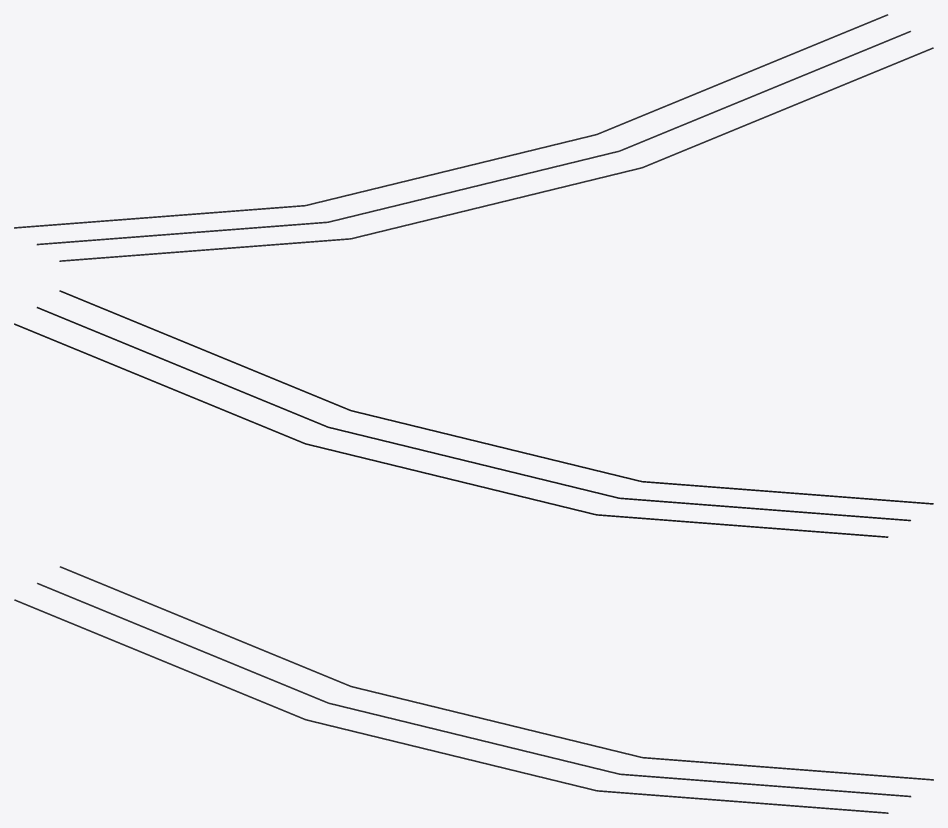
The model's file is power_wire_span_lod1.glb.
3 views of the same model, one above another, from view 1: azimuth 30°, elevation 25°; view 2: azimuth 150°, elevation 25°; view 3: azimuth 330°, elevation 25° (orthographic).
Visible parts, largest first — view 1: power_wire_span_lod1; view 2: power_wire_span_lod1; view 3: power_wire_span_lod1.
Boxes of the visible parts, bbox=[...] form: power_wire_span_lod1: bbox=[14, 14, 933, 261]; power_wire_span_lod1: bbox=[14, 290, 933, 537]; power_wire_span_lod1: bbox=[14, 566, 933, 813].
Bounding box in the file's own units: 20.01 × 1.1 × 1.83.
Materials: 1 (1 with a texture image).
